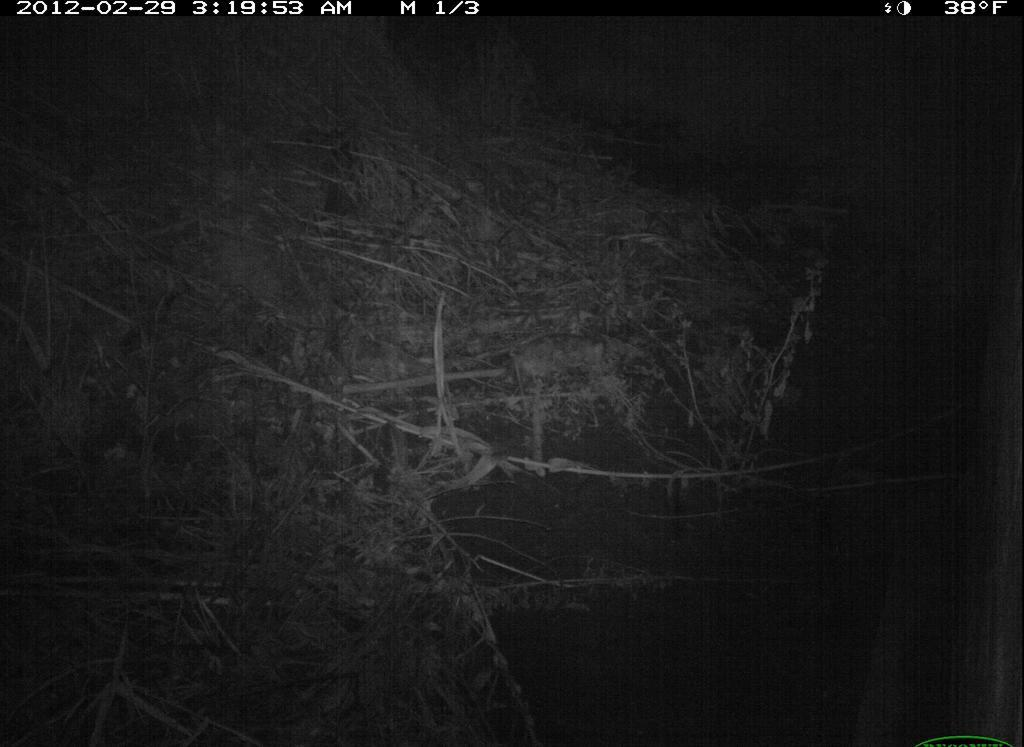opossum: (491, 308, 626, 401)
